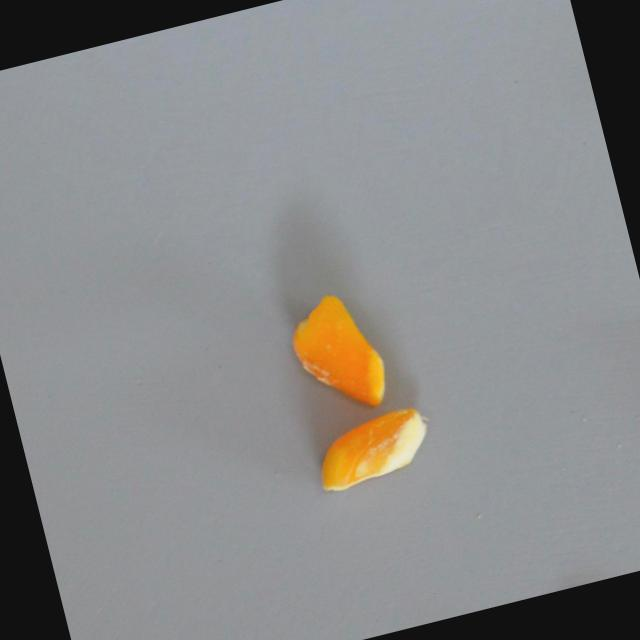dañado: (277, 279, 398, 424), (303, 398, 448, 502)
